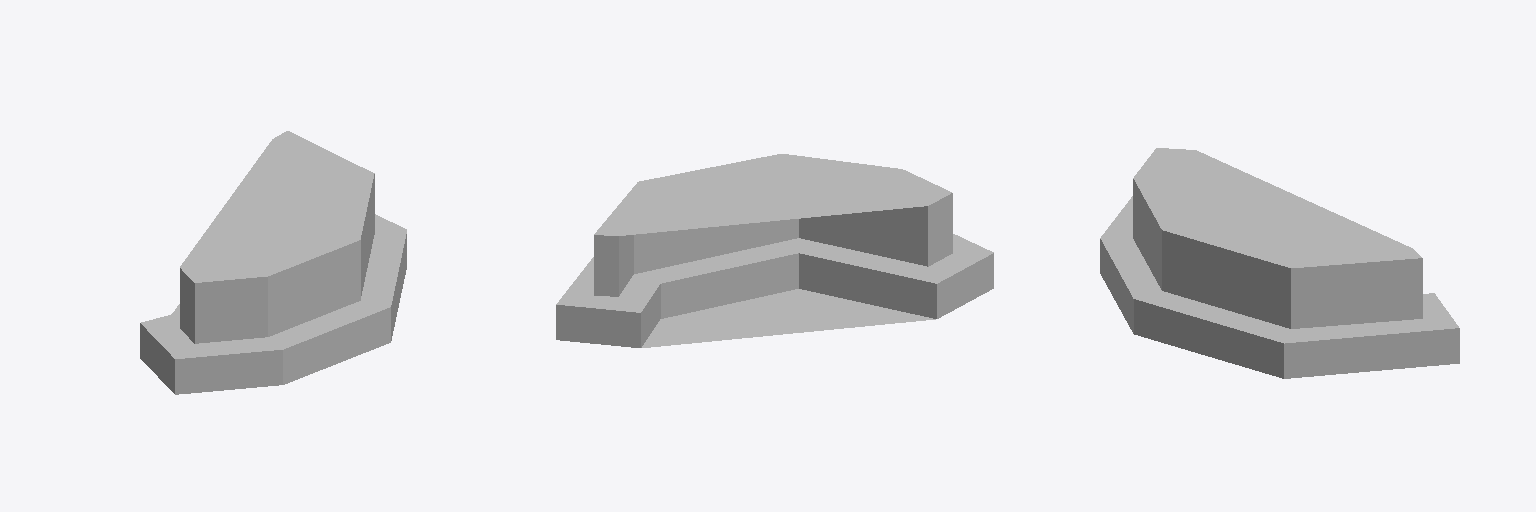
Rendered from idfk.obj.
3 views of the same model, side by side, from view 1: azimuth 30°, elevation 25°; view 2: azimuth 150°, elevation 25°; view 3: azimuth 270°, elevation 25° (orthographic).
Parts seen in each view (by area): view 1: polySurface1; view 2: polySurface1; view 3: polySurface1.
Part boxes in pixels (x1,y1,x2,y2): polySurface1: (140, 131, 406, 394); polySurface1: (556, 154, 993, 347); polySurface1: (1100, 148, 1459, 378).
Bounding box in the file's own units: 61.35 × 18.36 × 62.18.